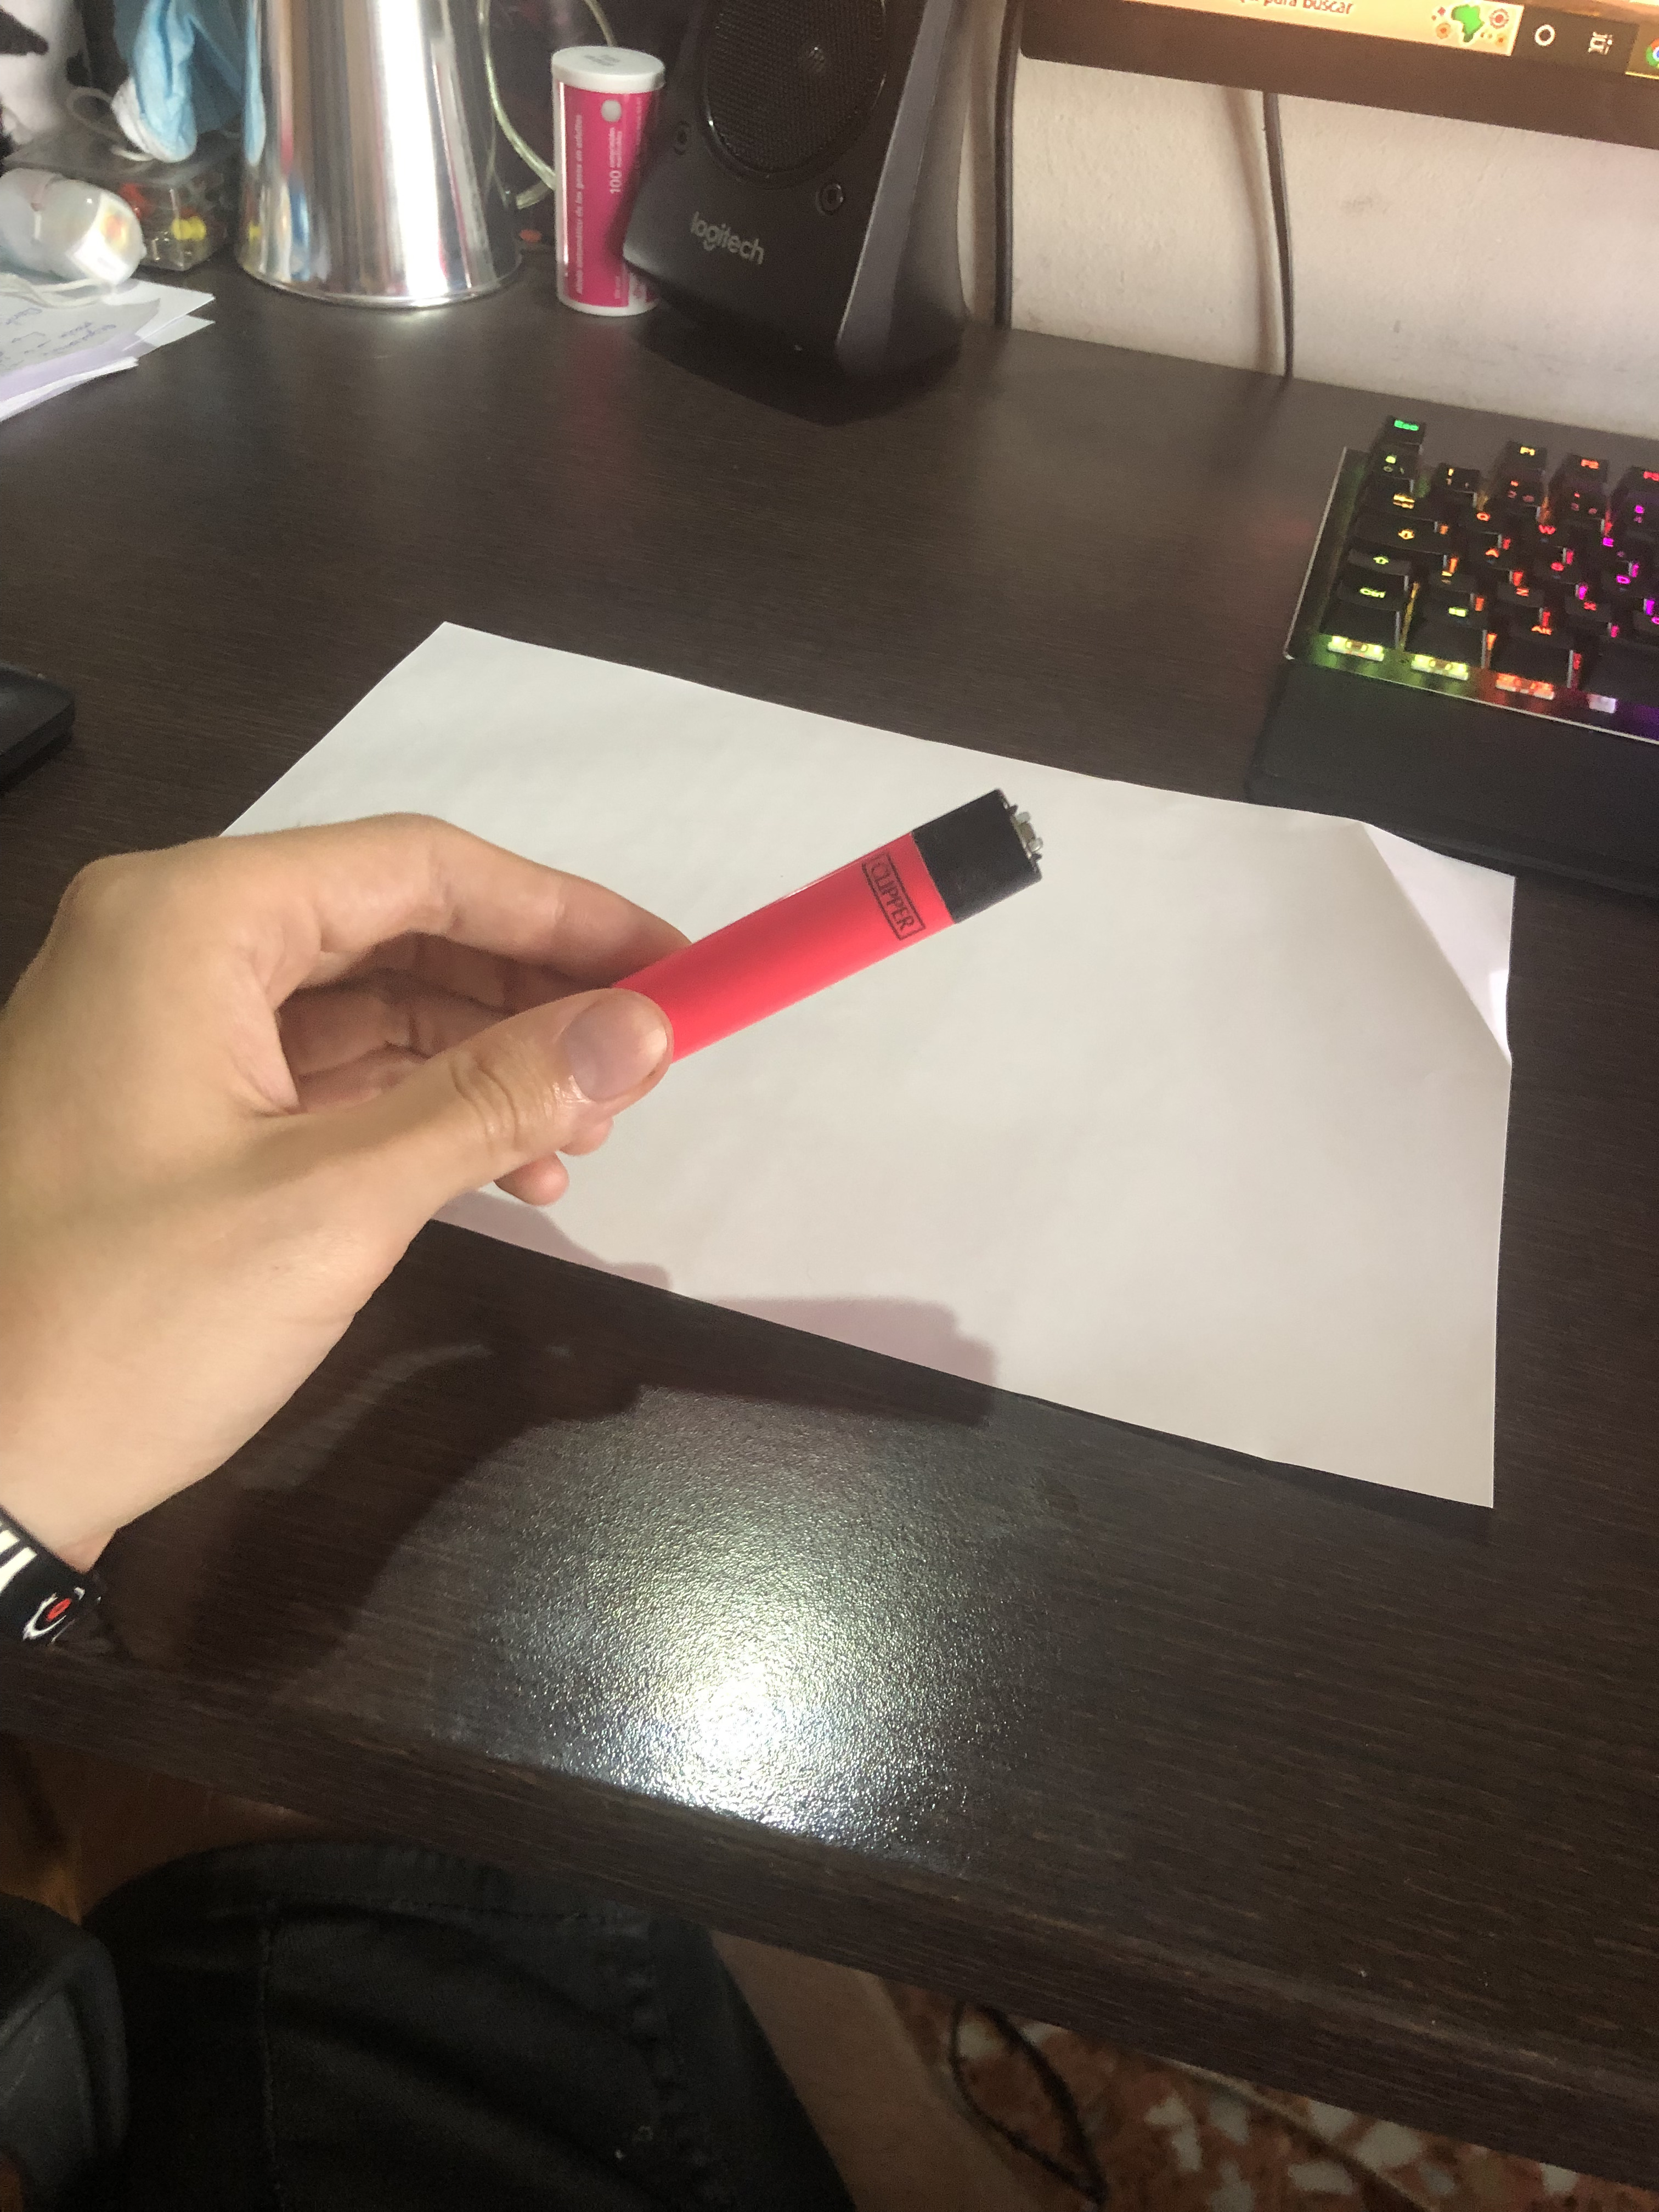Mechero: (549, 752, 1039, 1082)
